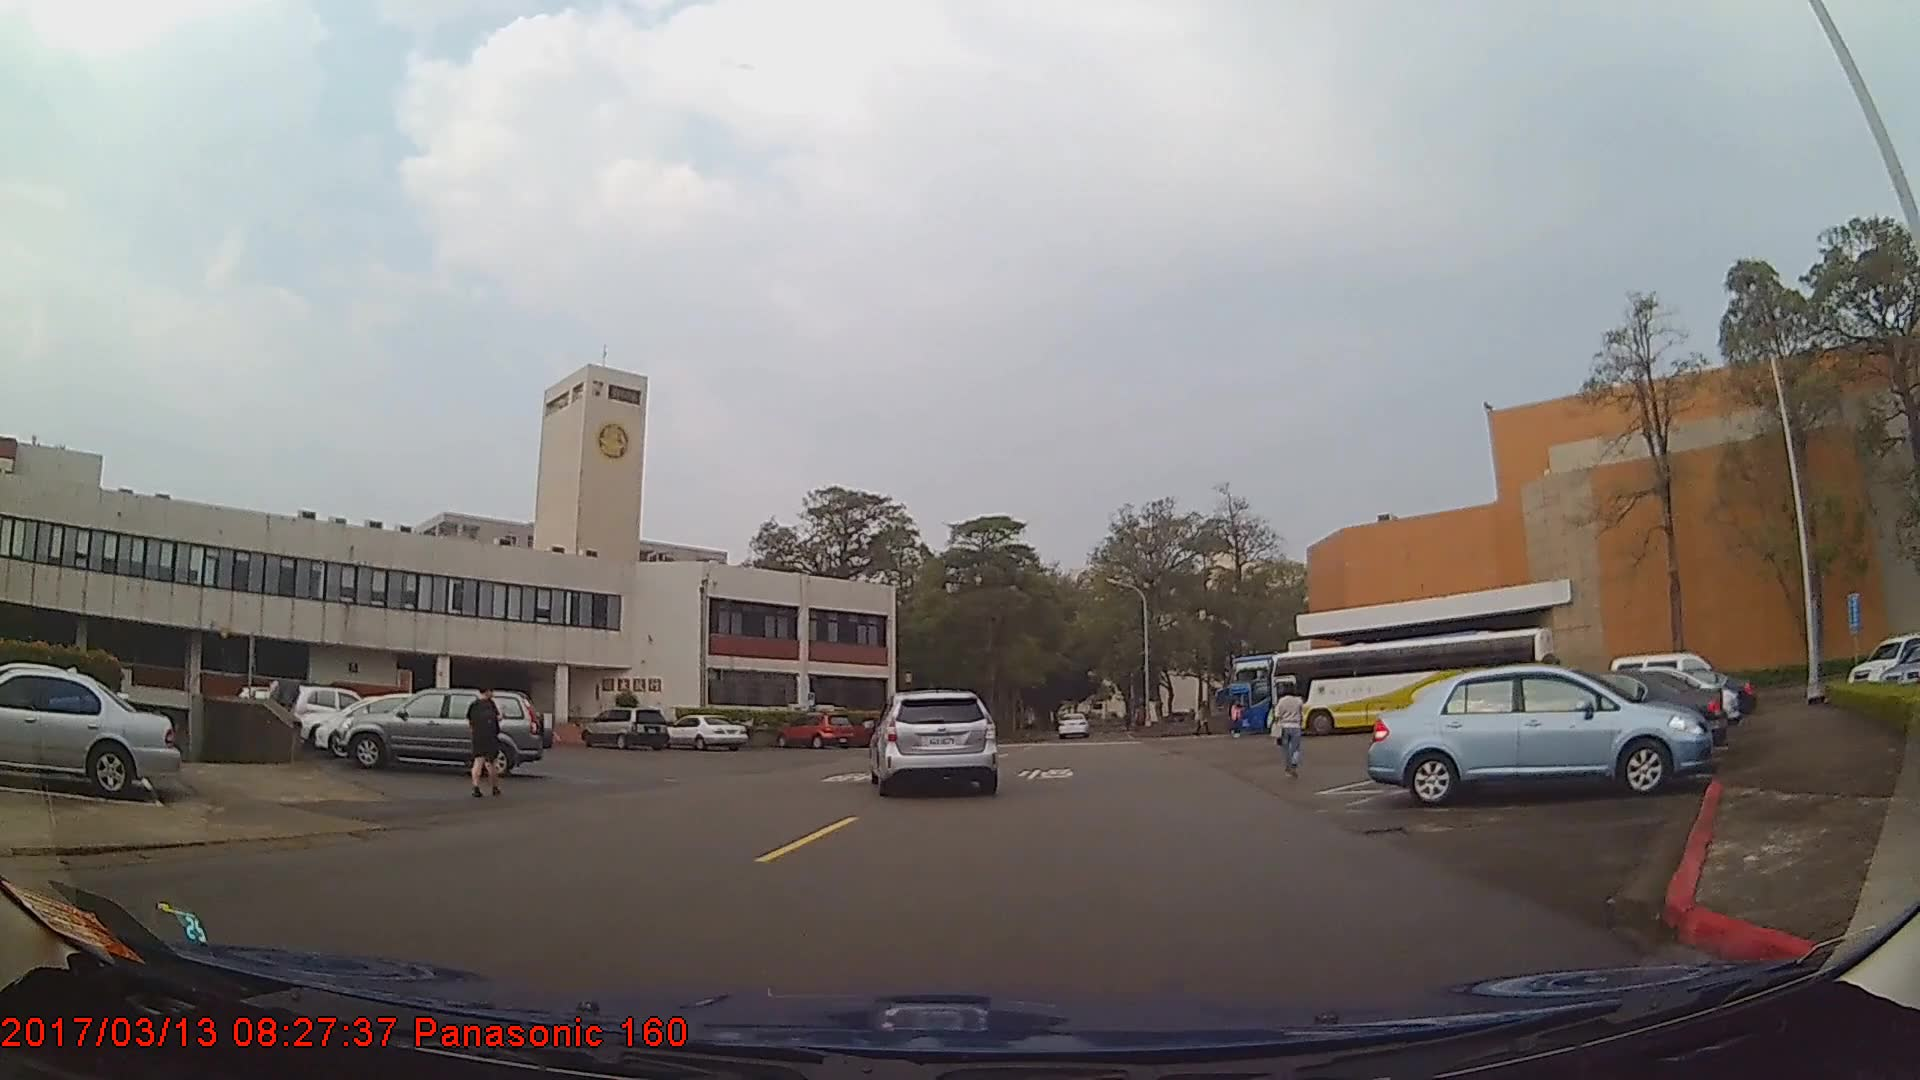pedestrian: (463, 673, 505, 792), (1264, 669, 1303, 764)
vehicle: (1366, 663, 1714, 806), (1268, 626, 1555, 736), (1430, 662, 1721, 762), (0, 665, 180, 797), (1225, 640, 1460, 736), (334, 687, 552, 779), (872, 688, 995, 795), (310, 684, 476, 753), (293, 682, 388, 736), (579, 703, 669, 750), (660, 712, 746, 752), (773, 709, 856, 750), (1055, 707, 1090, 741)
